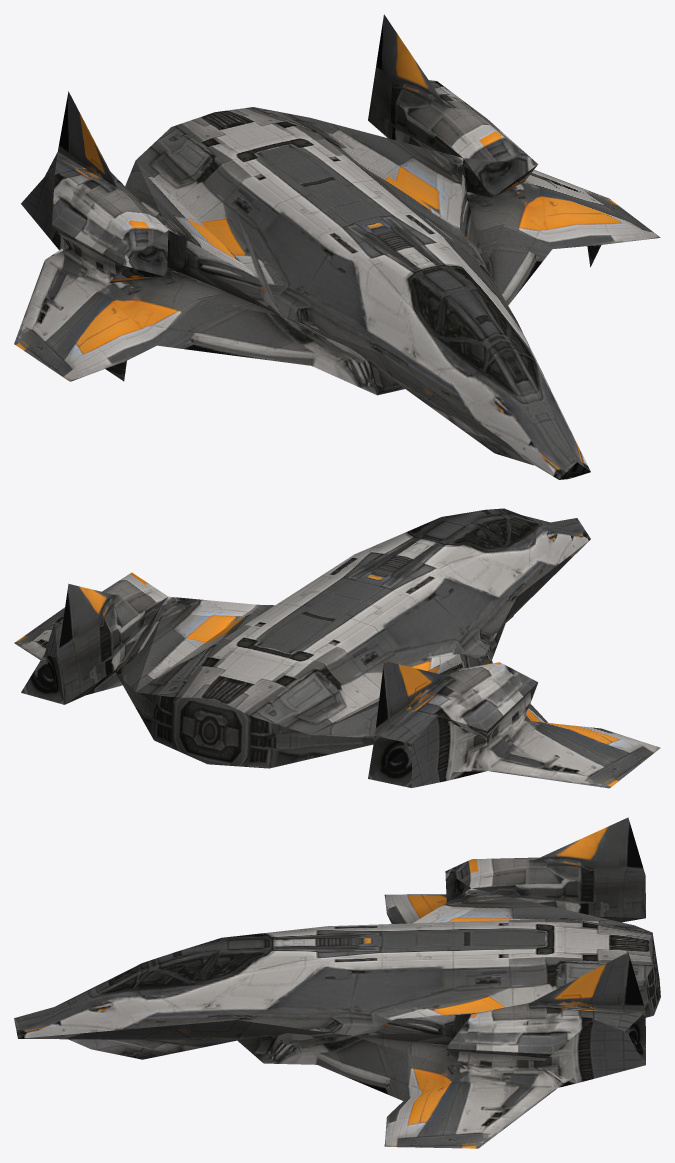
The model's file is fighter-far.glb.
The picture shows the model from 3 angles, top to bottom: view 1: azimuth 30°, elevation 25°; view 2: azimuth 150°, elevation 25°; view 3: azimuth 270°, elevation 25°; orthographic projection. The views are drawn at different scales.
Parts seen in each view (by area): view 1: Low; view 2: Low; view 3: Low.
Boxes of the visible parts, <box> form: Low: <box>14,14,660,479</box>; Low: <box>14,508,660,788</box>; Low: <box>14,817,660,1148</box>.
Size of the model in its own units: 1.63 by 0.512 by 1.76.
1 material, 1 textured.
